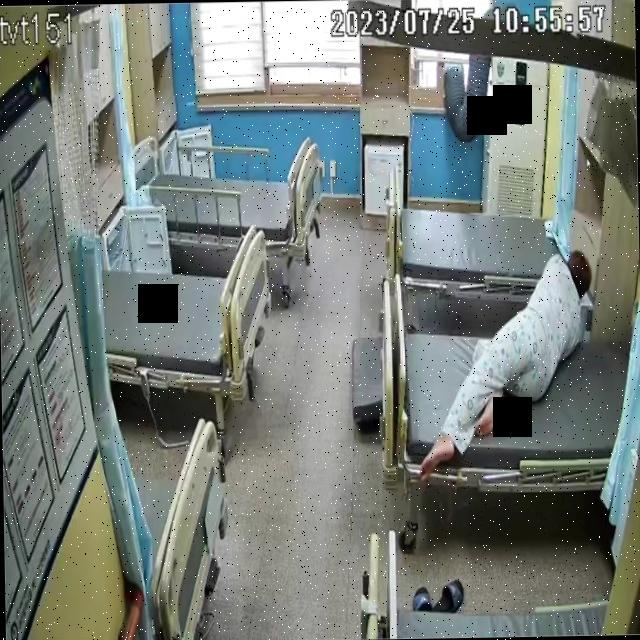bed: (397, 322, 634, 499), (100, 224, 276, 404), (133, 134, 320, 258), (386, 179, 569, 303)
danger: (414, 245, 594, 488)
patient: (414, 246, 594, 486)
